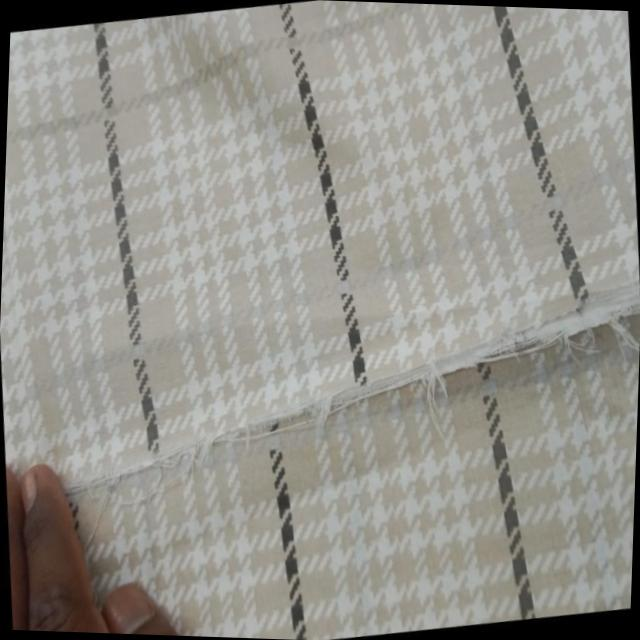cut: (105, 254, 640, 486)
